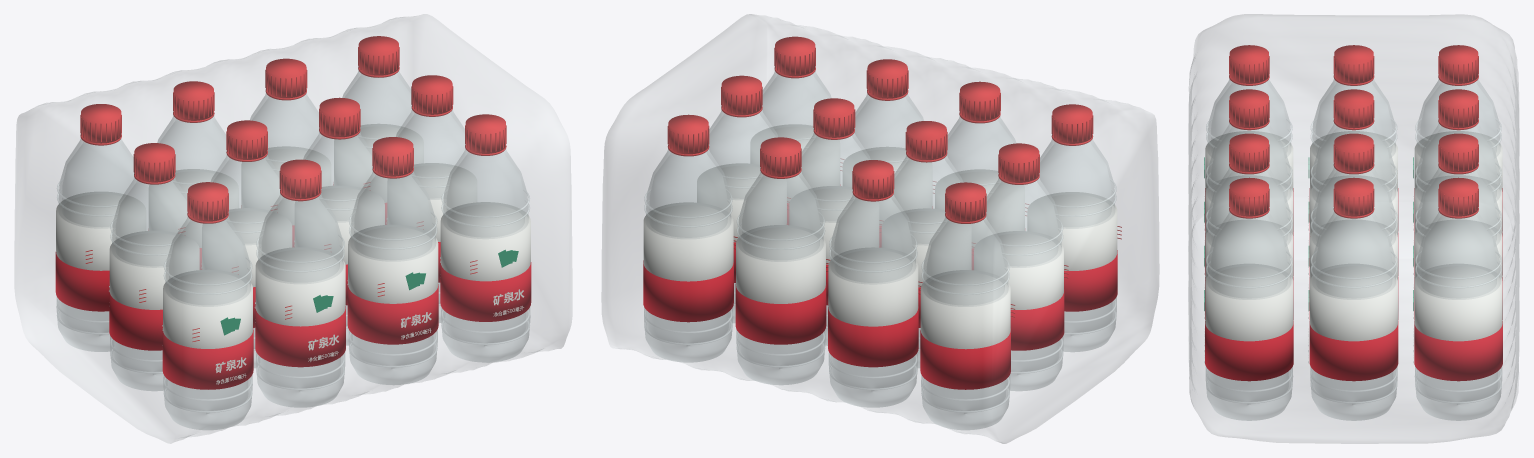
File: water.glb
3 renders of one model, left to right at view 1: azimuth 30°, elevation 25°; view 2: azimuth 150°, elevation 25°; view 3: azimuth 270°, elevation 25°, orthographic. The views are drawn at different scales.
Visible parts, largest first — view 1: Water sealed transparent bag, Water bottle 1 PET body, Water bottle 3 PET body, Water bottle 4 PET body, Water bottle 2 PET body, Water bottle 5 PET body, Water bottle 9 PET body, Water bottle 2 printed wrap, Water bottle 4 printed wrap, Water bottle 3 printed wrap, Water bottle 1 printed wrap, Water bottle 5 printed wrap (+31 smaller); view 2: Water sealed transparent bag, Water bottle 11 PET body, Water bottle 10 PET body, Water bottle 9 PET body, Water bottle 12 PET body, Water bottle 1 PET body, Water bottle 5 PET body, Water bottle 12 printed wrap, Water bottle 9 printed wrap, Water bottle 10 printed wrap, Water bottle 11 printed wrap, Water bottle 1 printed wrap (+31 smaller); view 3: Water sealed transparent bag, Water bottle 4 PET body, Water bottle 12 PET body, Water bottle 8 PET body, Water bottle 4 printed wrap, Water bottle 12 printed wrap, Water bottle 8 printed wrap, Water bottle 3 printed wrap, Water bottle 11 printed wrap, Water bottle 7 printed wrap, Water bottle 8 red lower label, Water bottle 4 red lower label (+28 smaller).
Boxes of the visible parts, x1,y1,x2,y2 form: Water sealed transparent bag: (14,14,572,443); Water bottle 1 PET body: (163,217,252,429); Water bottle 3 PET body: (348,171,437,384); Water bottle 4 PET body: (441,149,530,362); Water bottle 2 PET body: (256,194,344,407); Water bottle 5 PET body: (110,178,187,390); Water bottle 9 PET body: (56,138,134,351); Water bottle 2 printed wrap: (255,247,345,326); Water bottle 4 printed wrap: (440,202,530,281); Water bottle 3 printed wrap: (348,225,438,303); Water bottle 1 printed wrap: (163,270,252,348); Water bottle 5 printed wrap: (109,231,199,309); Water sealed transparent bag: (601,14,1159,443); Water bottle 11 PET body: (736,172,825,384); Water bottle 10 PET body: (829,194,917,407); Water bottle 9 PET body: (921,217,1009,429); Water bottle 12 PET body: (644,149,732,362); Water bottle 1 PET body: (1039,139,1116,351); Water bottle 5 PET body: (986,178,1063,390); Water bottle 12 printed wrap: (643,202,733,281); Water bottle 9 printed wrap: (920,270,1010,349); Water bottle 10 printed wrap: (828,247,918,326); Water bottle 11 printed wrap: (736,225,825,303); Water bottle 1 printed wrap: (1027,192,1117,270); Water sealed transparent bag: (1188,14,1519,443); Water bottle 4 PET body: (1206,212,1292,420); Water bottle 12 PET body: (1415,212,1501,420); Water bottle 8 PET body: (1310,212,1397,420); Water bottle 4 printed wrap: (1205,264,1293,341); Water bottle 12 printed wrap: (1414,264,1502,341); Water bottle 8 printed wrap: (1310,264,1397,341); Water bottle 3 printed wrap: (1205,219,1293,279); Water bottle 11 printed wrap: (1414,219,1502,279); Water bottle 7 printed wrap: (1310,219,1397,279); Water bottle 8 red lower label: (1309,321,1398,381); Water bottle 4 red lower label: (1205,321,1293,381).
Bounding box in the file's own units: 0.312 × 0.1914 × 0.2344.
